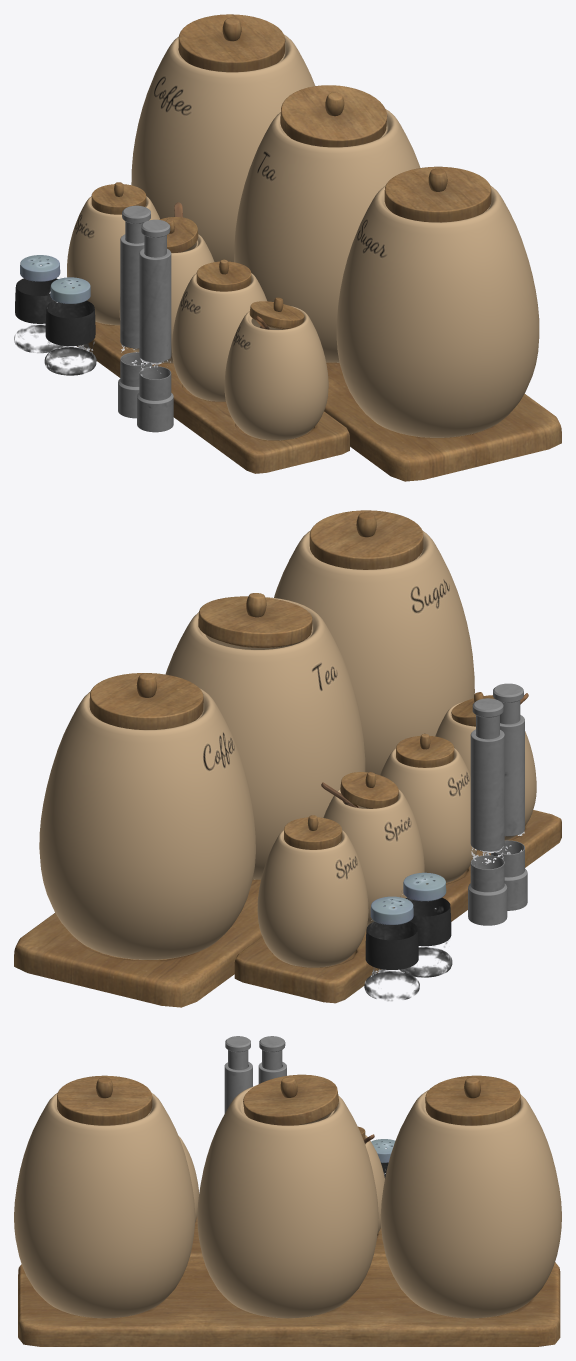
File: kitchen_accessories_v1.glb
3 renders of one model, top to bottom at view 1: azimuth 30°, elevation 25°; view 2: azimuth 150°, elevation 25°; view 3: azimuth 270°, elevation 25°, orthographic. The views are drawn at different scales.
Parts seen in each view (by area): view 1: g (×21); view 2: g (×20); view 3: g (×12).
Part boxes in pixels (box(x1,y1,x2,y2)): g (×21): box(14, 14, 561, 481); g (×20): box(14, 510, 561, 1007); g (×12): box(14, 1062, 561, 1346).
Bounding box in the file's own units: 1.21 × 0.9316 × 2.
1 material, 1 textured.
